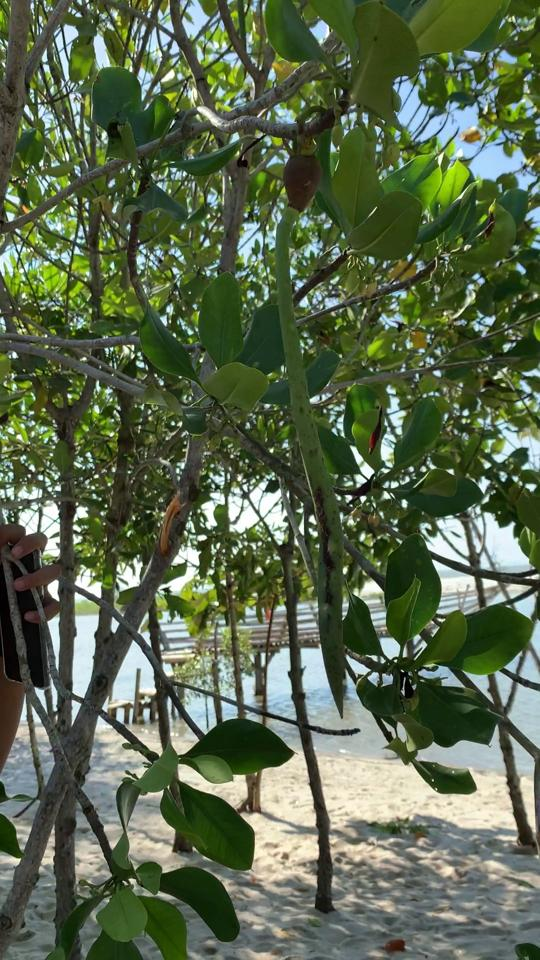setengah matang: (261, 133, 368, 727)
